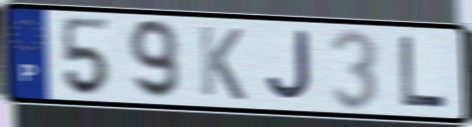3: (328, 25, 384, 115)
5: (58, 14, 113, 98)
9: (125, 18, 184, 102)
J: (263, 28, 316, 105)
K: (196, 23, 248, 104)
L: (398, 33, 449, 112)
